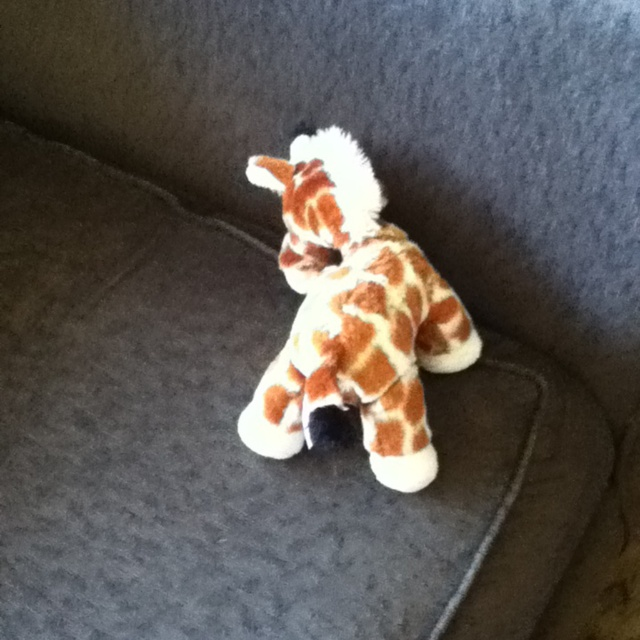Giraffe: (241, 129, 488, 497)
